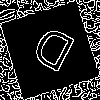D: (25, 25, 78, 82)
